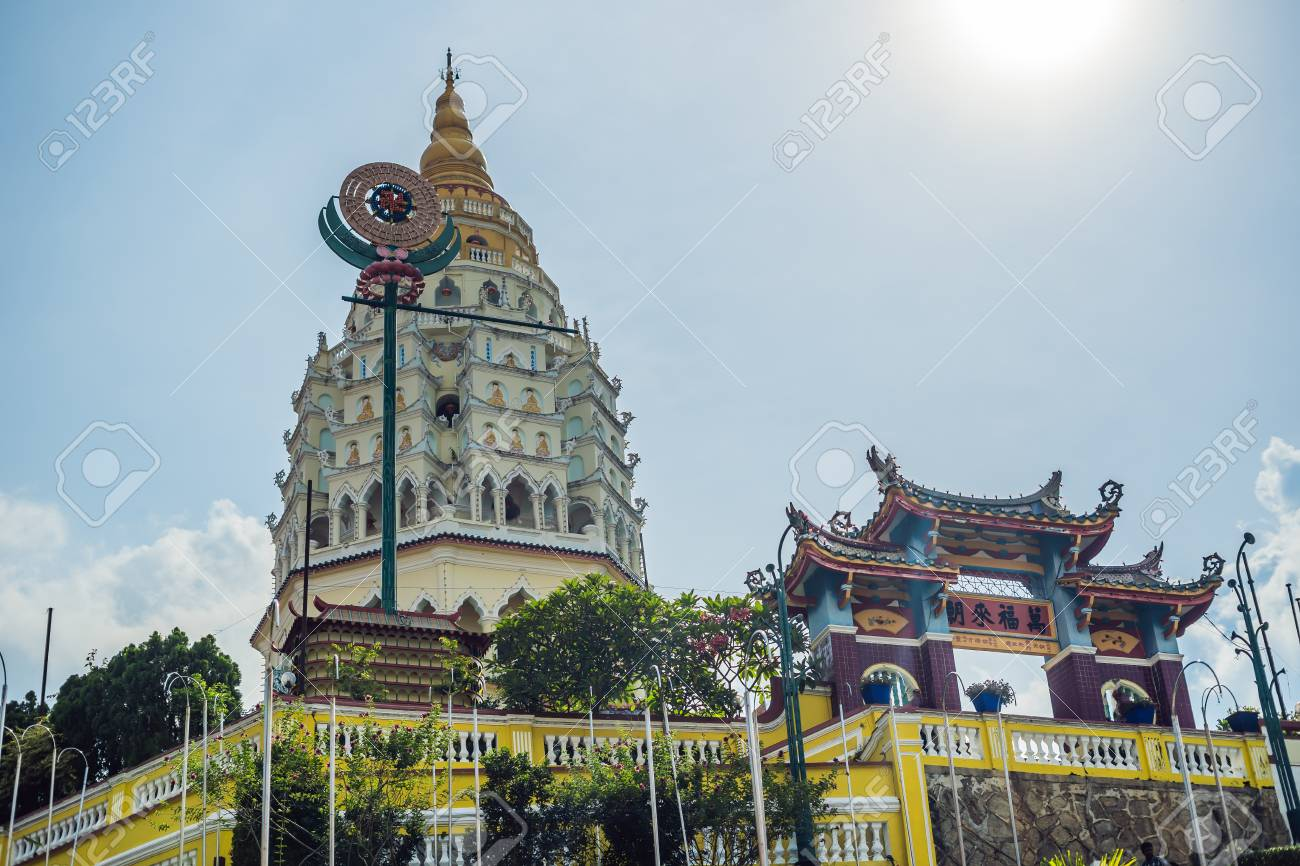Buddhist Temple: (244, 50, 639, 613), (791, 472, 1193, 726)
